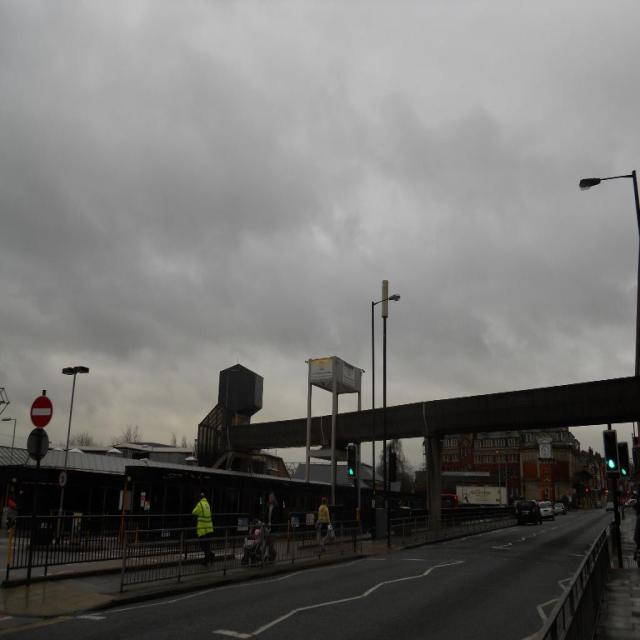road_sign: (31, 397, 52, 426)
traffic light: (602, 432, 619, 472), (619, 444, 630, 476), (347, 448, 356, 477)
